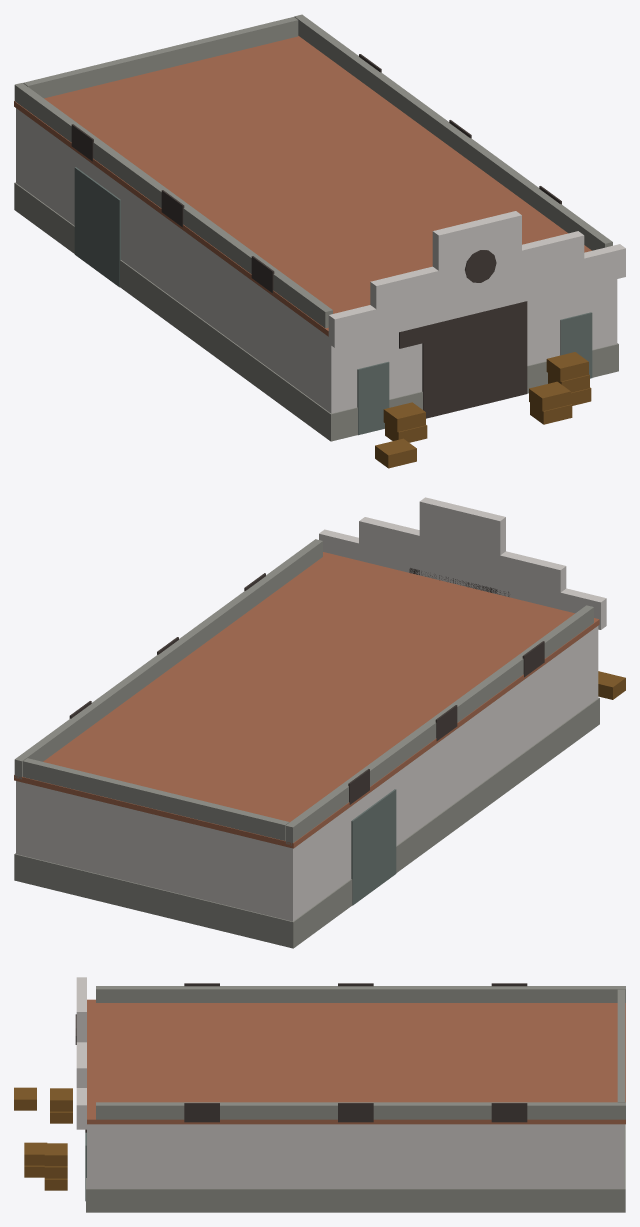
Rendered from SM_Cooperativa_v2_AlmacenAbierto_LOD1.fbx.
The picture shows the model from 3 angles, top to bottom: view 1: azimuth 30°, elevation 25°; view 2: azimuth 150°, elevation 25°; view 3: azimuth 270°, elevation 25°; orthographic projection. The views are drawn at different scales.
Parts seen in each view (by area): view 1: SM_bloques.cooperativa_v2_LOD1; view 2: SM_bloques.cooperativa_v2_LOD1; view 3: SM_bloques.cooperativa_v2_LOD1.
Part boxes in pixels (left/top/right/bottom): SM_bloques.cooperativa_v2_LOD1: left=14, top=14, right=625, bottom=468; SM_bloques.cooperativa_v2_LOD1: left=14, top=497, right=625, bottom=948; SM_bloques.cooperativa_v2_LOD1: left=14, top=977, right=625, bottom=1212.
Bounding box in the file's own units: 11.2 × 6.8 × 23.9.
